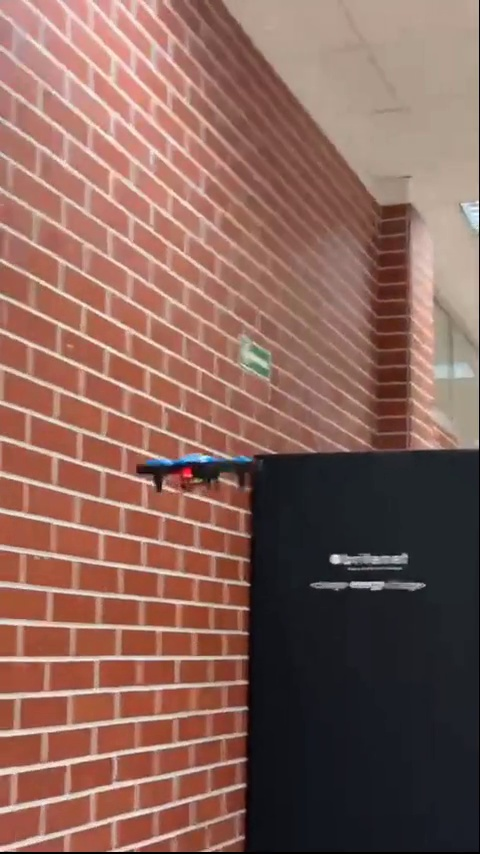drone: (139, 454, 264, 494)
